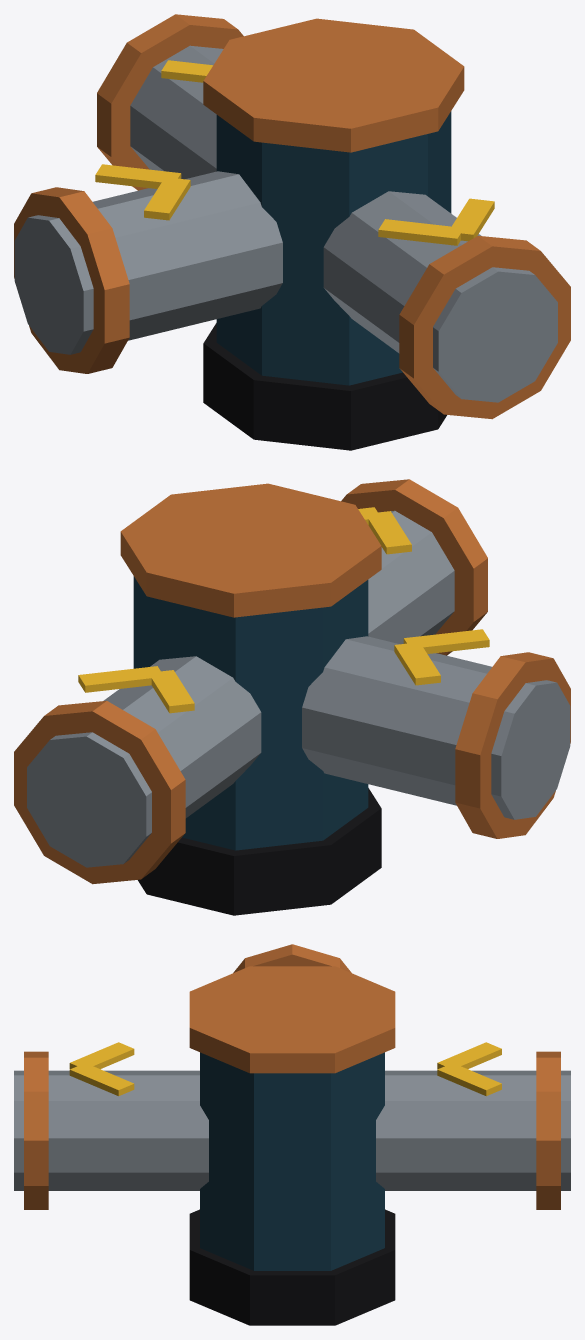
Rendered from pipe_tee_r.obj.
The picture shows the model from 3 angles, top to bottom: view 1: azimuth 30°, elevation 25°; view 2: azimuth 150°, elevation 25°; view 3: azimuth 270°, elevation 25°; orthographic projection. The views are drawn at different scales.
Visible parts, largest first — view 1: Pipe, Arrows; view 2: Pipe, Arrows; view 3: Pipe, Arrows.
Part boxes in pixels (x1,y1,x2,y2): Pipe: (14, 14, 570, 450); Arrows: (95, 60, 494, 245); Pipe: (14, 479, 570, 915); Arrows: (78, 507, 489, 713); Pipe: (14, 944, 570, 1325); Arrows: (69, 1042, 501, 1096).
Bounding box in the file's own units: 0.6848 × 0.54 × 1.
